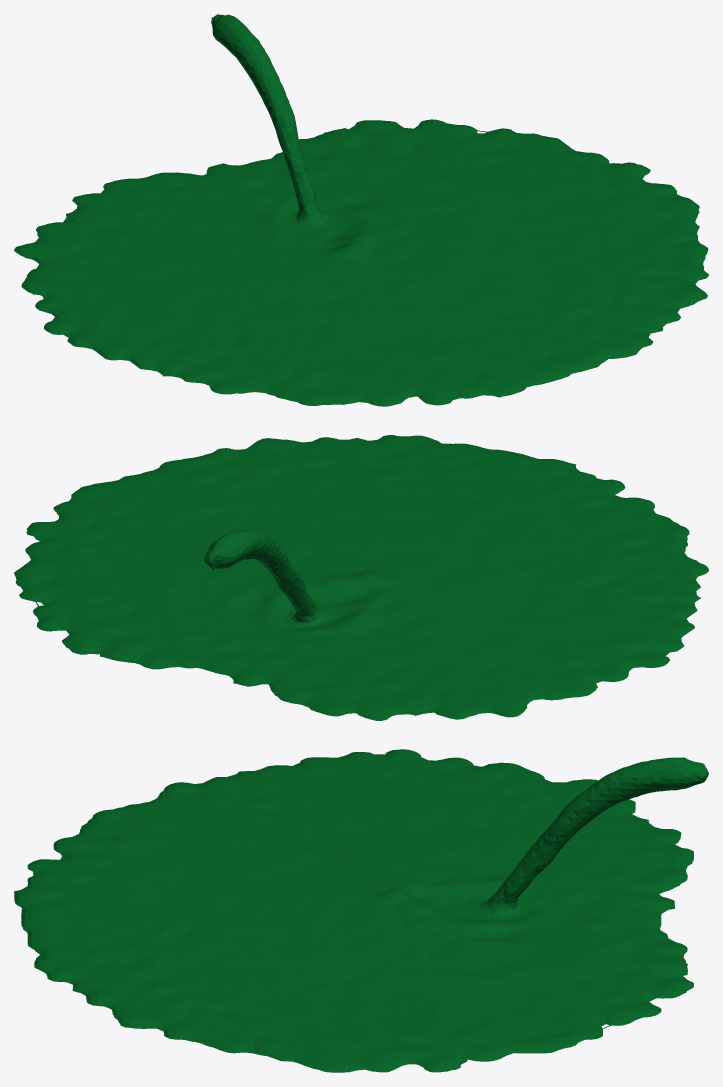
The model's file is fluid_50.fbx.
The picture shows the model from 3 angles, top to bottom: view 1: azimuth 30°, elevation 25°; view 2: azimuth 150°, elevation 25°; view 3: azimuth 270°, elevation 25°; orthographic projection. The views are drawn at different scales.
Parts seen in each view (by area): view 1: Cube; view 2: Cube; view 3: Cube.
Part boxes in pixels (<box>): Cube: <box>14,14,708,406</box>; Cube: <box>14,435,708,720</box>; Cube: <box>14,749,708,1072</box>.
Bounding box in the file's own units: 771 × 177 × 702.
